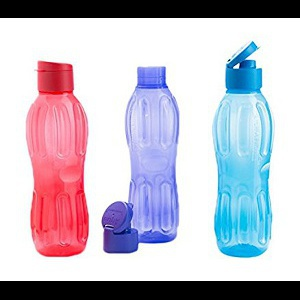emptybottle: (212, 41, 272, 256), (25, 61, 88, 257), (126, 66, 179, 244)
